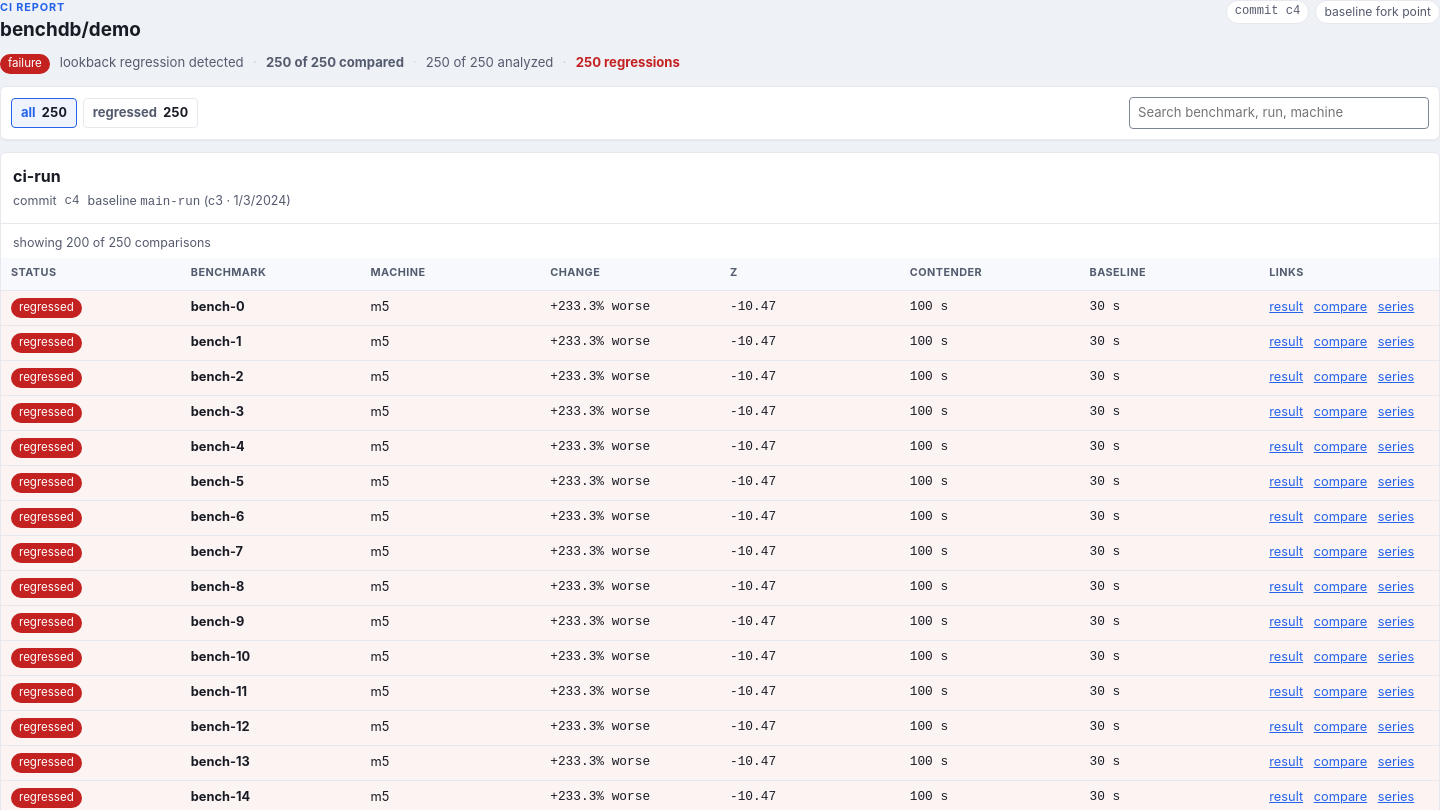
CIReportPage › filters before applying row chunk limits
Expected: the text "showing 200 of 250 comparisons" is shown, x1=13 y1=235 x2=211 y2=250
Expected: the text "bench-249" is not shown
Type "bench-249" into the search field named "search comparisons" at (1279, 113), box x1=1129 y1=97 x2=1429 y2=129
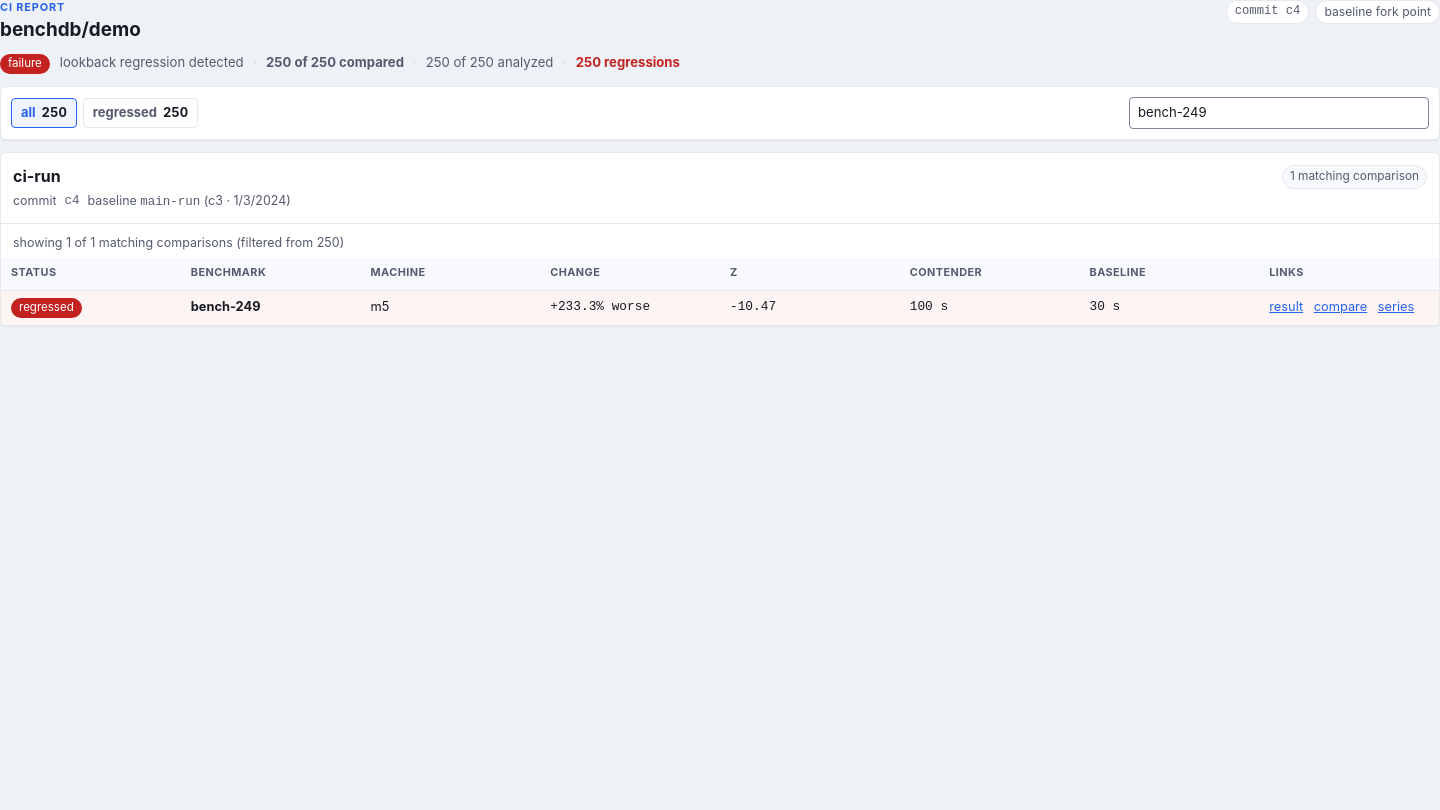
Now the text "showing 1 of 1 matching comparisons (filtered from 250)" is shown, box x1=13 y1=235 x2=344 y2=250
Now the text "bench-249" is shown, box x1=191 y1=299 x2=260 y2=314
